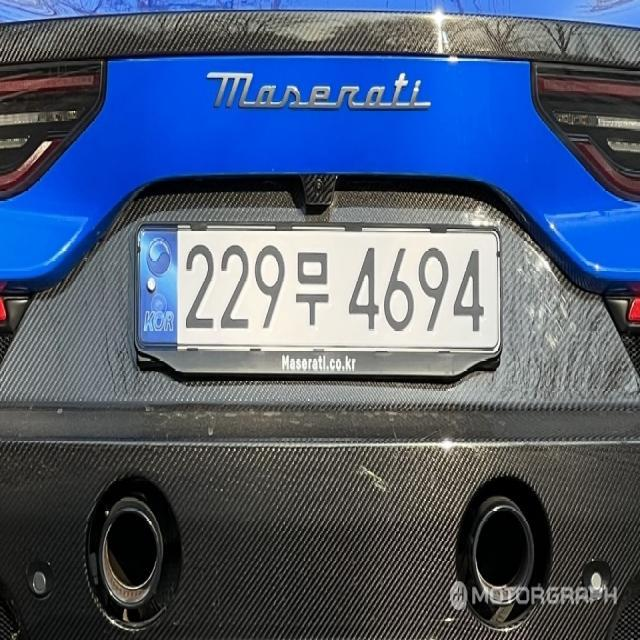car: (125, 201, 513, 399)
